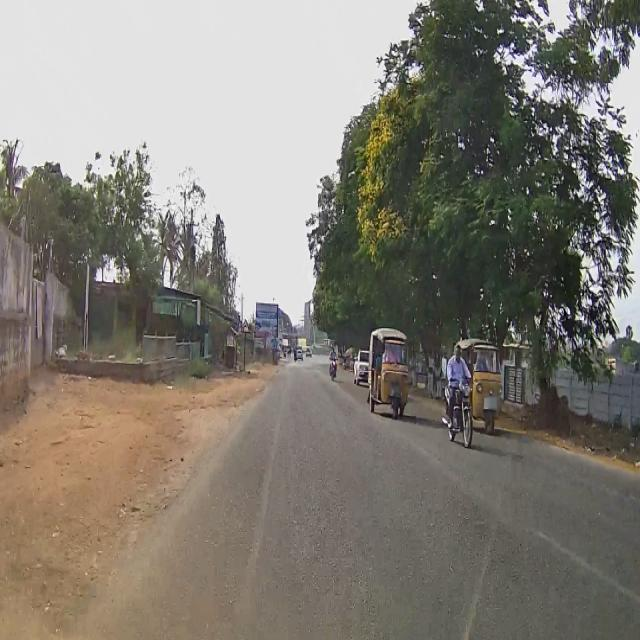auto ahead at: (372, 324, 410, 424)
